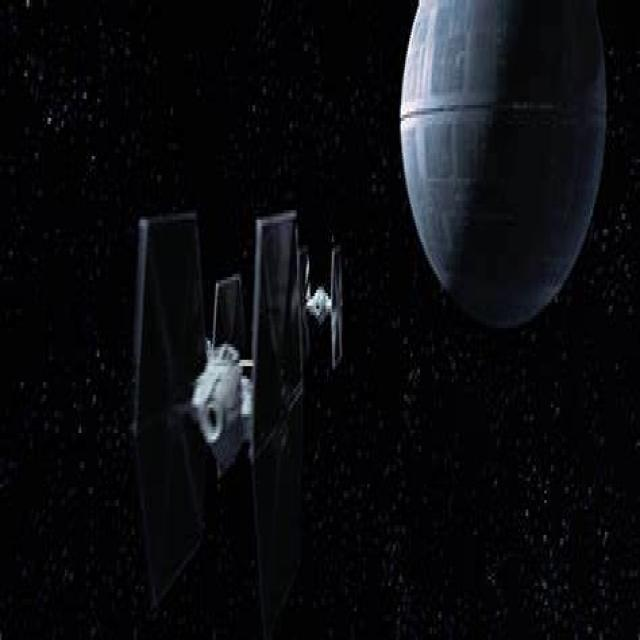deathStar: (397, 0, 605, 328)
